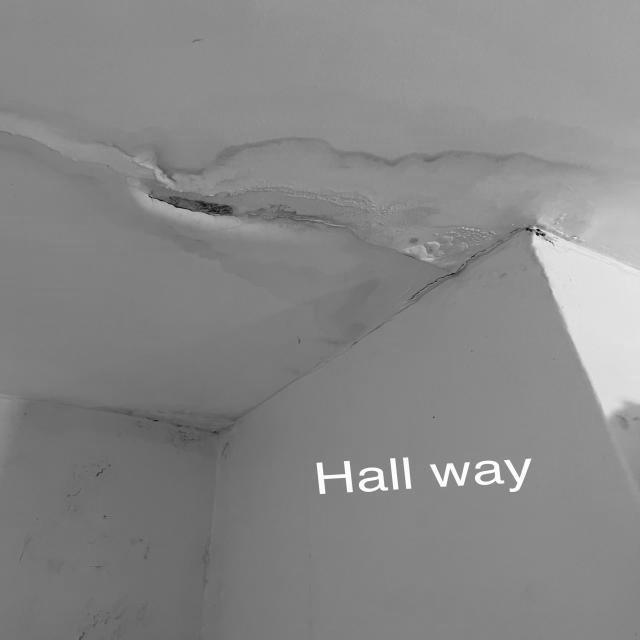stain marks: (138, 134, 640, 298), (0, 459, 261, 640), (8, 99, 134, 241), (91, 398, 268, 456), (267, 298, 403, 358)
